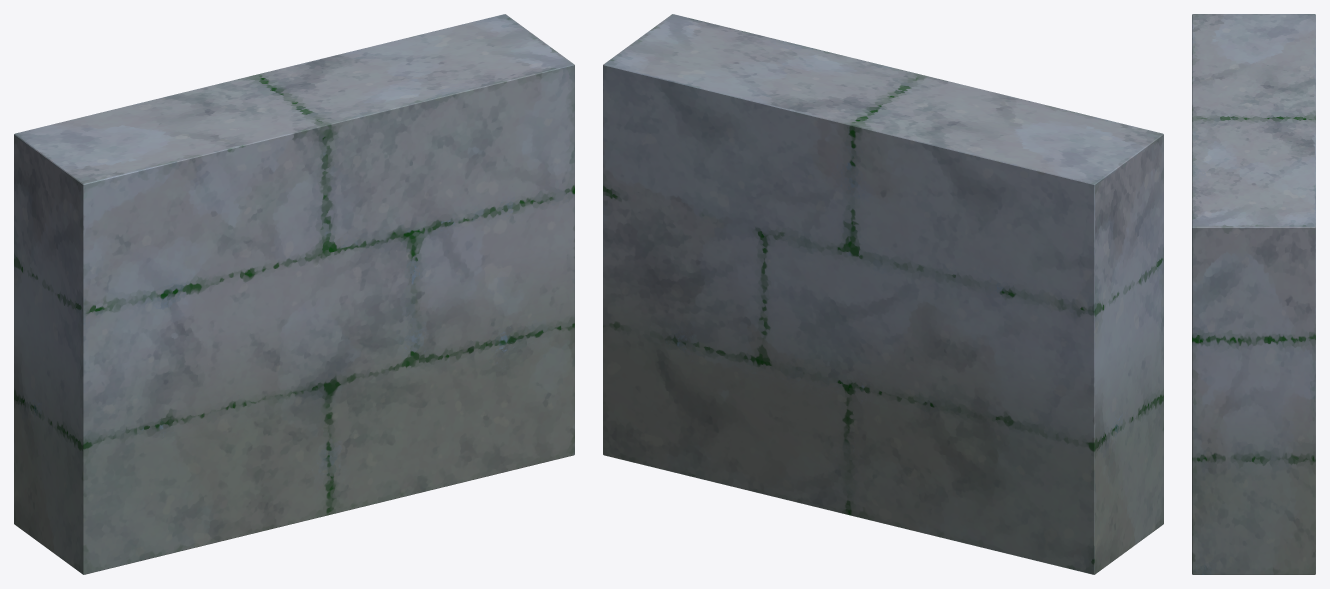
The model's file is Wall_straight_NoDamage_Low.fbx.
3 renders of one model, left to right at view 1: azimuth 30°, elevation 25°; view 2: azimuth 150°, elevation 25°; view 3: azimuth 270°, elevation 25°, orthographic. The views are drawn at different scales.
Parts seen in each view (by area): view 1: Wall_straight_NoDamage_Low; view 2: Wall_straight_NoDamage_Low; view 3: Wall_straight_NoDamage_Low.
Part boxes in pixels (x1=…): Wall_straight_NoDamage_Low: x1=14, y1=14, x2=574, y2=574; Wall_straight_NoDamage_Low: x1=603, y1=14, x2=1163, y2=574; Wall_straight_NoDamage_Low: x1=1192, y1=14, x2=1315, y2=574.
Bounding box in the file's own units: 2.08 × 1.58 × 0.5106.
